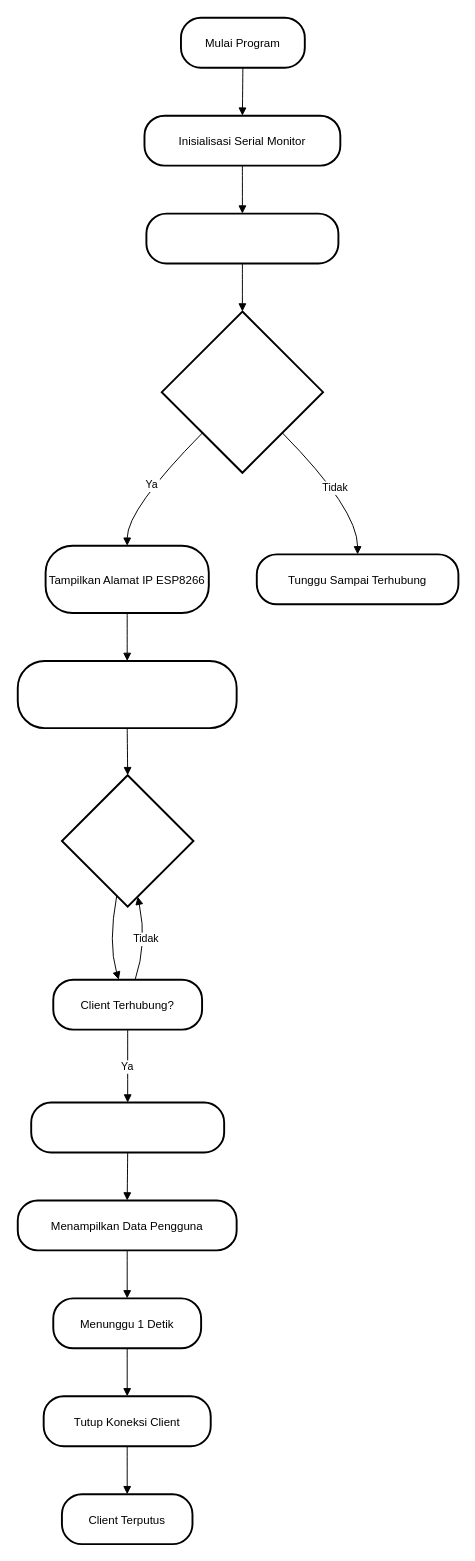
Image size: 475x1561. Some labels were removed from this diagram. The shapes that lost their labels are listed below. From the top down, each one's box as (x1, y1, x2, y2) in pixels, then its label:
(145, 212, 339, 264): Menghubungkan ke WiFi
(160, 310, 324, 473): WiFi Terhubung?
(16, 660, 237, 729): Mulai Web Server pada Port 80
(60, 774, 194, 907): Loop Utama
(30, 1101, 225, 1153): Tampilkan Halaman Web
